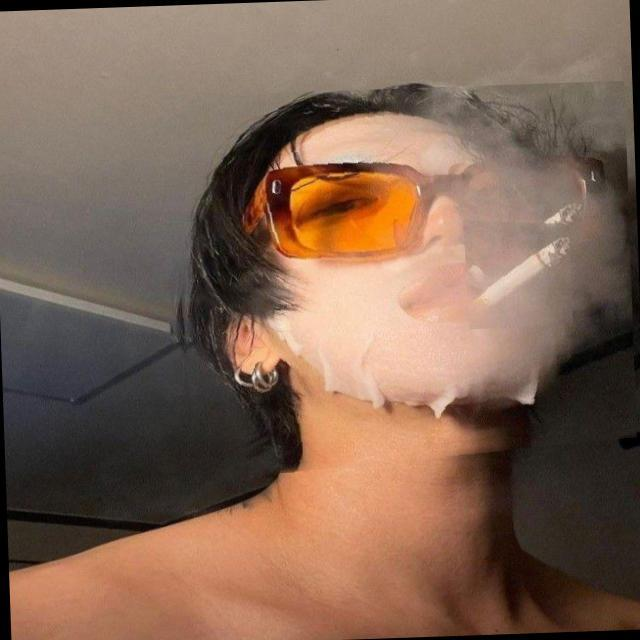cigarette: (462, 216, 572, 328)
